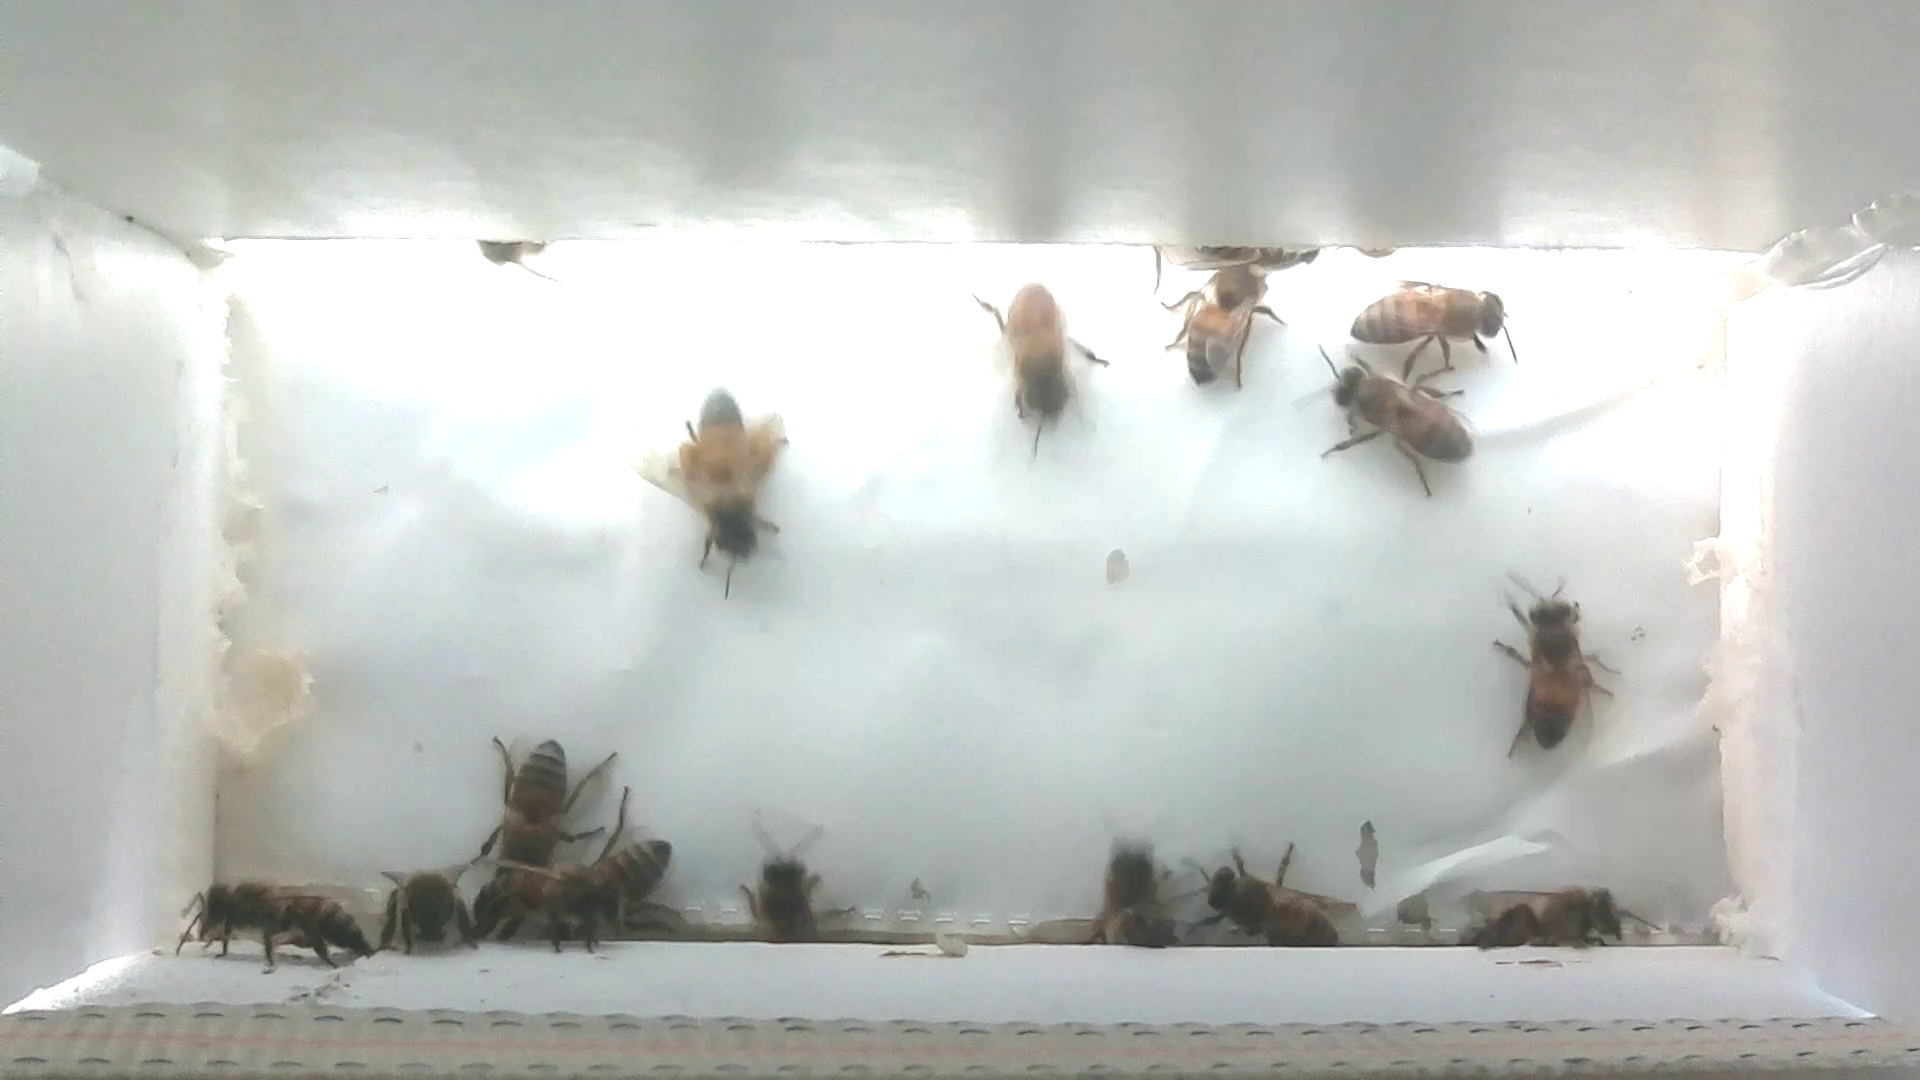bee: (634, 375, 808, 595), (1484, 560, 1630, 766), (1305, 344, 1484, 505), (956, 268, 1105, 458), (473, 721, 611, 895), (179, 874, 376, 985), (1155, 249, 1288, 405), (1183, 849, 1352, 971), (1336, 272, 1523, 380), (539, 819, 684, 953), (1462, 878, 1650, 967), (450, 858, 626, 951), (733, 825, 848, 953), (371, 851, 491, 961), (1091, 843, 1183, 960)
